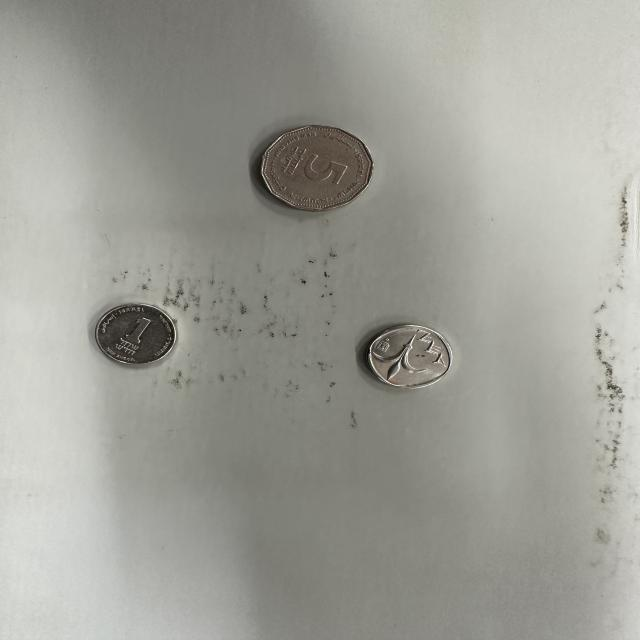1-shekel: (358, 319, 462, 398), (89, 298, 181, 375)
5-shekel: (252, 122, 386, 223)
